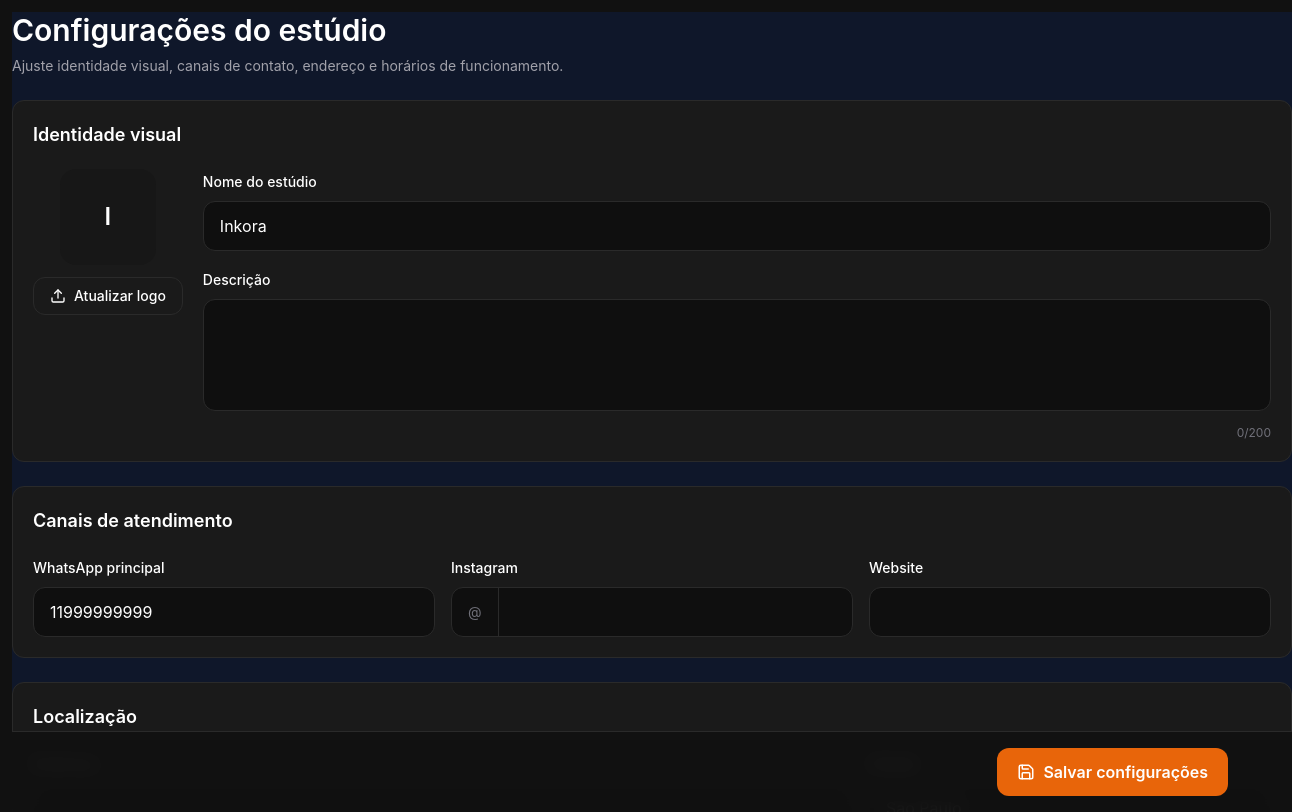
it: Settings › rejects opening equal to or after closing
This screenshot has width=1292, height=812.
Click the button "Salvar configurações".
click(1113, 772)  # box [997, 748, 1228, 796]
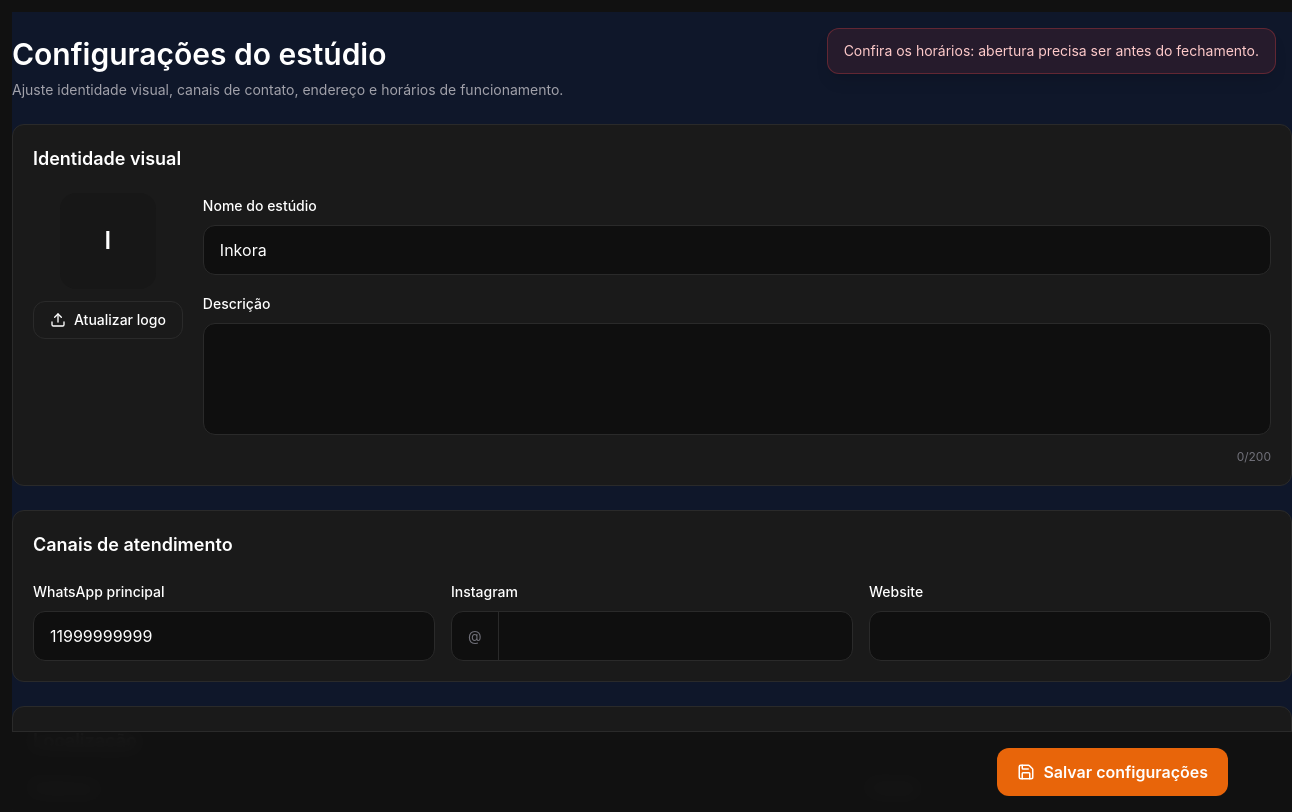
Expected: the text "abertura precisa ser antes do fechamento" is shown, [844, 42, 1259, 59]
